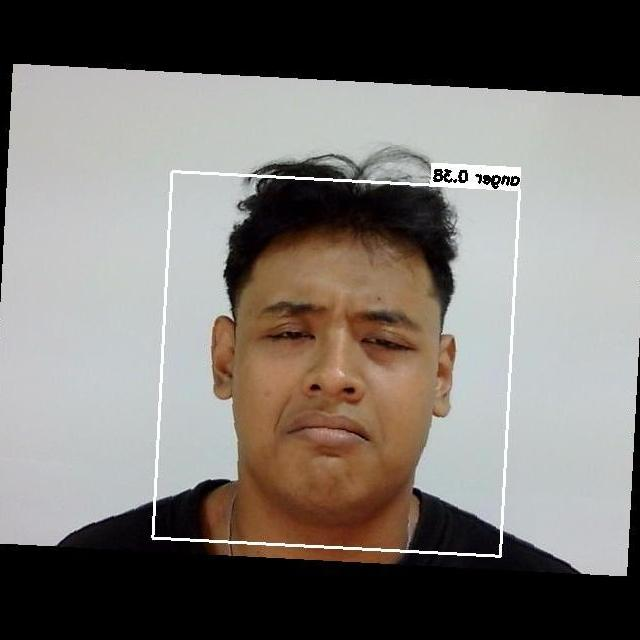Sad: (239, 283, 425, 480)
